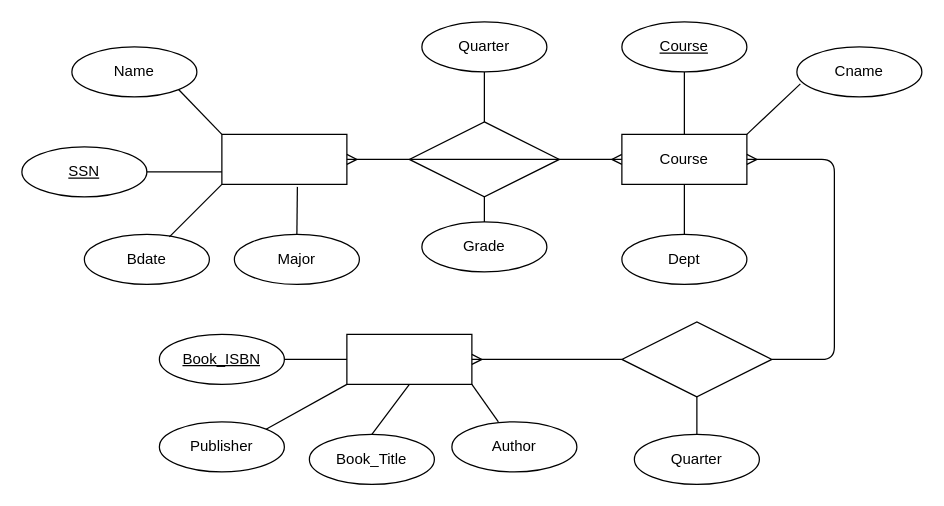
Image size: 944x506. Some labels were removed from this diagram. The shapes that lost their labels are listed below. From the top down, each one's centre as x and y in pixels, then its label:
At point (284, 158): "Student".
At point (483, 159): "Relationship".
At point (409, 358): "Text".
At point (696, 359): "Book_Adoption".
